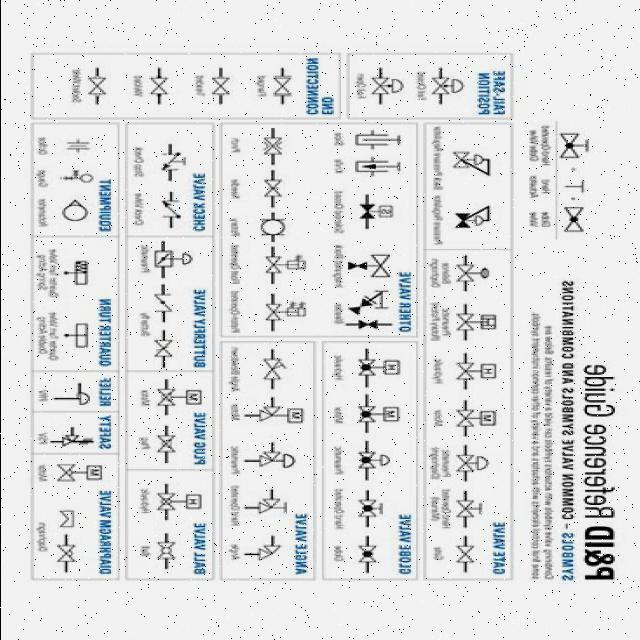Angle Blowdown: (252, 352, 298, 391)
Angle Valve: (248, 544, 293, 562)
BackPressure Regulator: (449, 152, 496, 182)
Balance Diaphragm Gate Valve: (451, 261, 499, 291)
Ball Valve: (154, 540, 177, 563)
Bleeder Valve: (344, 282, 392, 318), (348, 320, 389, 334)
Butterfly Valve: (149, 287, 176, 318), (152, 336, 179, 362)
Check Valve: (158, 196, 185, 228)
Diaphragm Valve: (54, 540, 78, 569), (58, 508, 78, 530)
Fail Closed Safe Position: (433, 66, 468, 110)
Fail Open Safe Position: (366, 70, 412, 114)
Float Operated Valve: (259, 249, 308, 277)
Gate Valve: (446, 541, 476, 565)
Gauge: (56, 168, 94, 188)
Globe Valve: (356, 544, 379, 571)
Hand Operated Angle Valve: (254, 486, 291, 518)
Hand Operated Gate Valve: (452, 498, 488, 520)
Hand Operated Globe Valve: (358, 495, 391, 531)
Hydraulic Operated Ball Valve: (152, 490, 212, 512)
Hydraulic Operated Gate Valve: (455, 362, 503, 386)
Hydraulic Operated Globe Valve: (359, 356, 404, 384)
Integrated Block Valve: (343, 248, 391, 282)
Knife Valve: (350, 150, 404, 188)
Motor Operated Angle Valve: (249, 399, 309, 432)
Motor Operated Diaphragm Valve: (53, 462, 109, 486)
Motor Operated Gate Valve: (451, 405, 508, 433)
Motor Operated Globe Valve: (352, 406, 408, 436)
Motor Operated Plug Valve: (156, 386, 204, 410)
Needle Valve: (250, 168, 294, 206)
Orifice: (61, 132, 101, 160)
PRV: (49, 381, 92, 413)
PSV: (50, 426, 92, 450)
Pinch Valve: (255, 135, 301, 160)
Piston Operated Valve: (253, 294, 315, 329)
Plug Valve: (156, 426, 181, 457)
Pneumatic-Diaphragm Angle Valve: (250, 447, 300, 478)
Pneumatic-Diaphragm Butterfly Valve: (151, 246, 194, 272)
Pneumatic-Diaphragm Gate Valve: (454, 452, 492, 476)
Pneumatic-Diaphragm Globe Valve: (354, 446, 400, 480)
Pressure Regulator: (455, 202, 504, 236)
Quarter Turn Valve Double Acting: (54, 318, 90, 352)
Quarter Turn Valve Spring Acting: (66, 256, 102, 294)
Rotameter: (56, 200, 92, 228)
Rotary Piston-Pneumatic Gate Valve: (453, 310, 498, 334)
Slide Valve: (354, 130, 411, 152)
Solenoid Operated Gate Valve: (356, 196, 406, 232)
Stop Valve: (154, 143, 188, 176)
